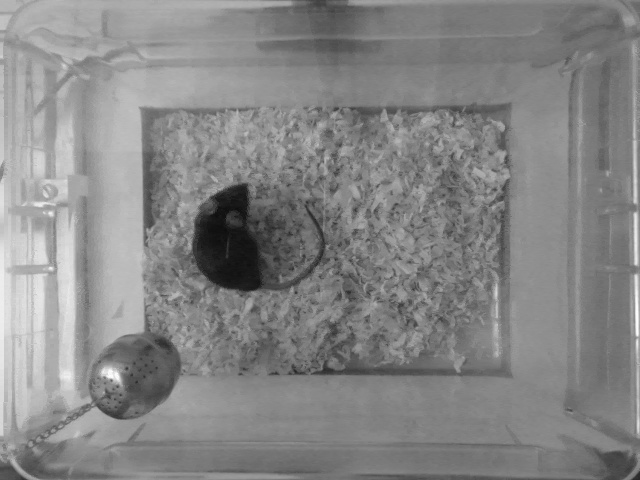mice: (193, 180, 330, 295)
